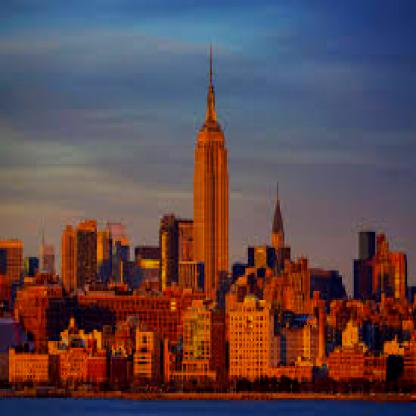Empire-State-building: (190, 37, 231, 266)
